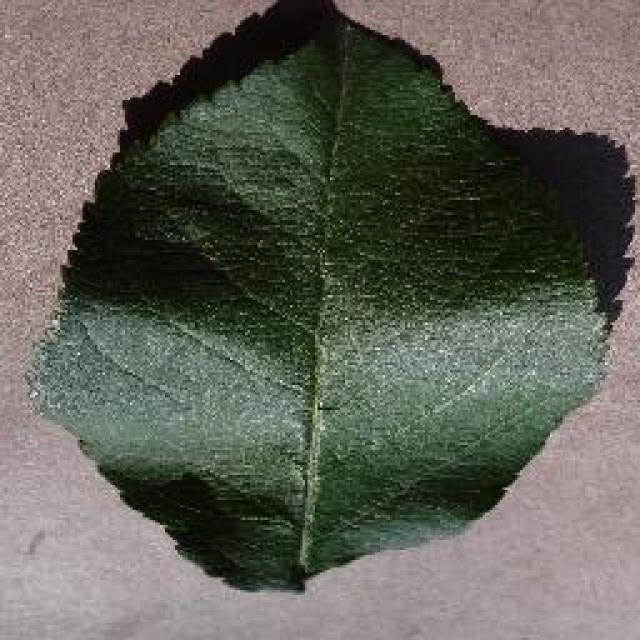apple healthy: (22, 0, 622, 590)
